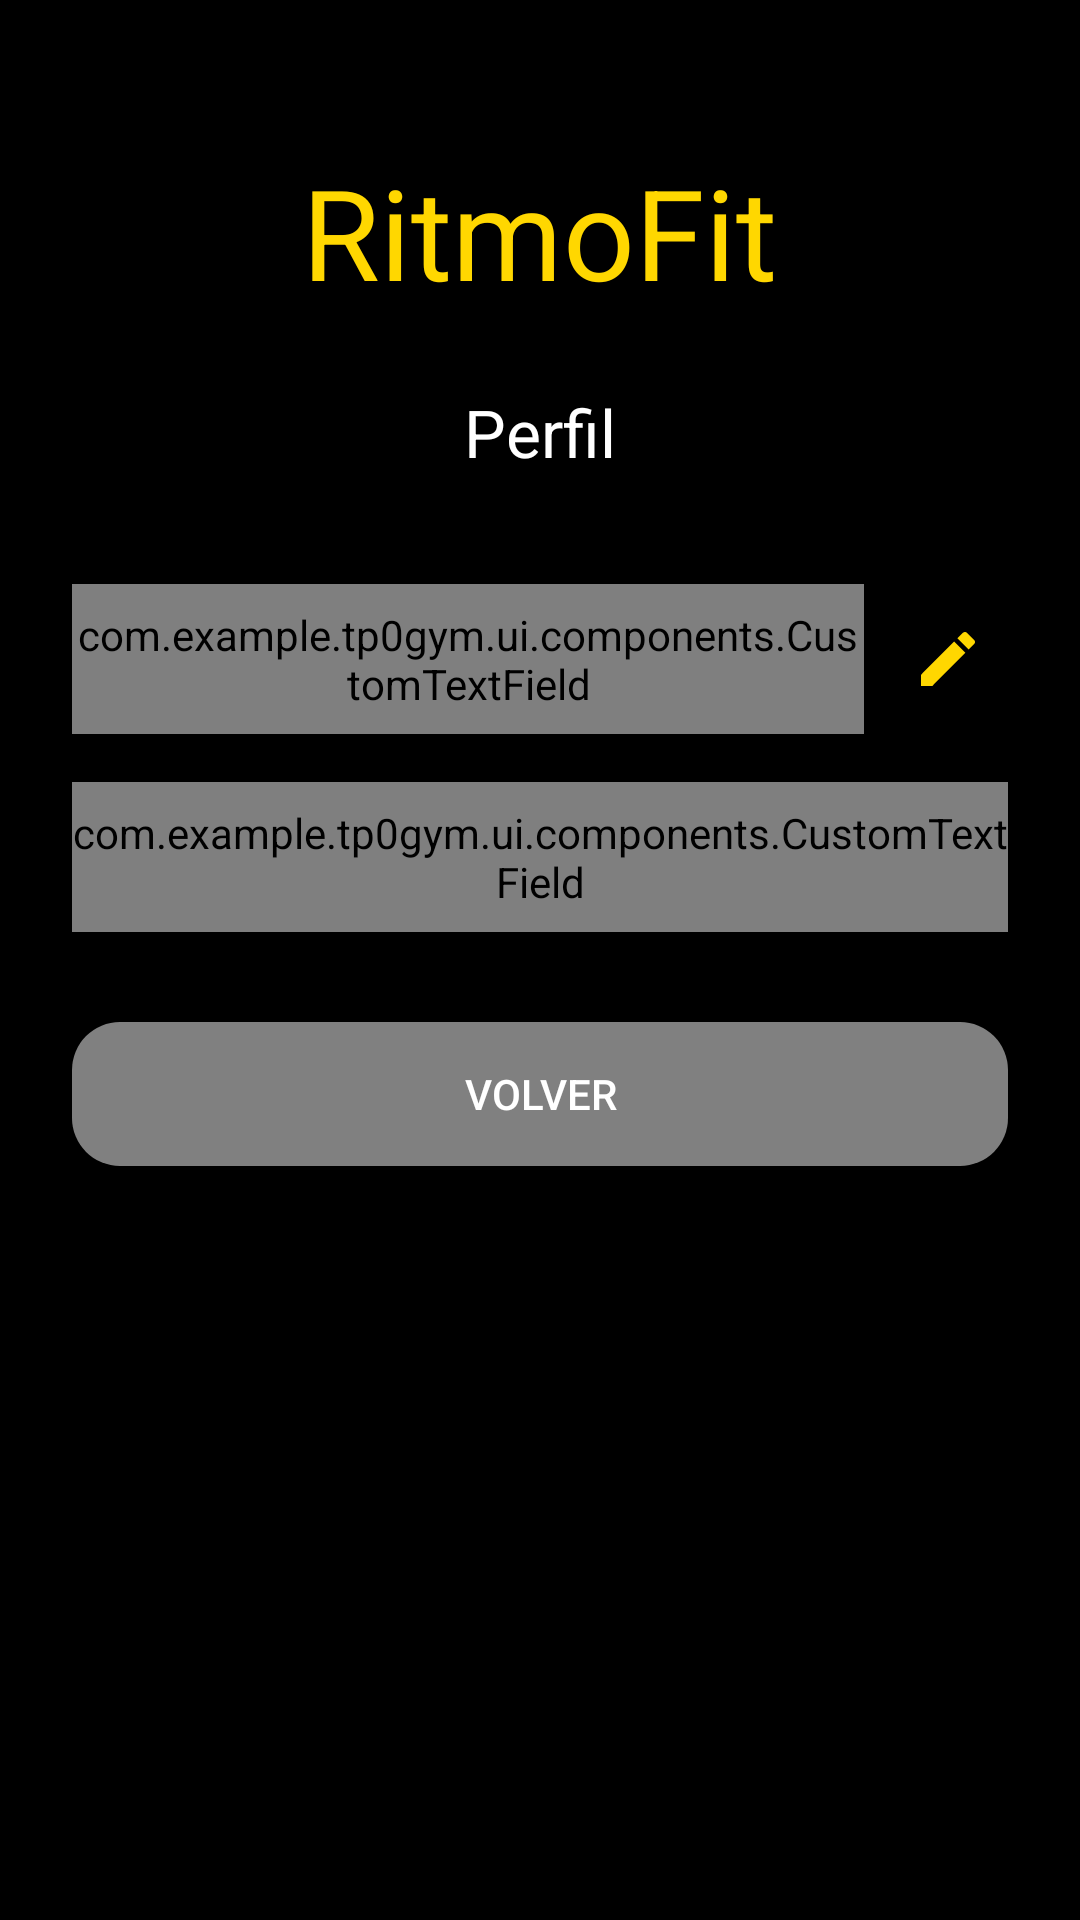

Icons on this 1080×1920 Android screen, each with its box as (x1, y1, x2, y2):
Editar: (921, 632, 975, 686)
